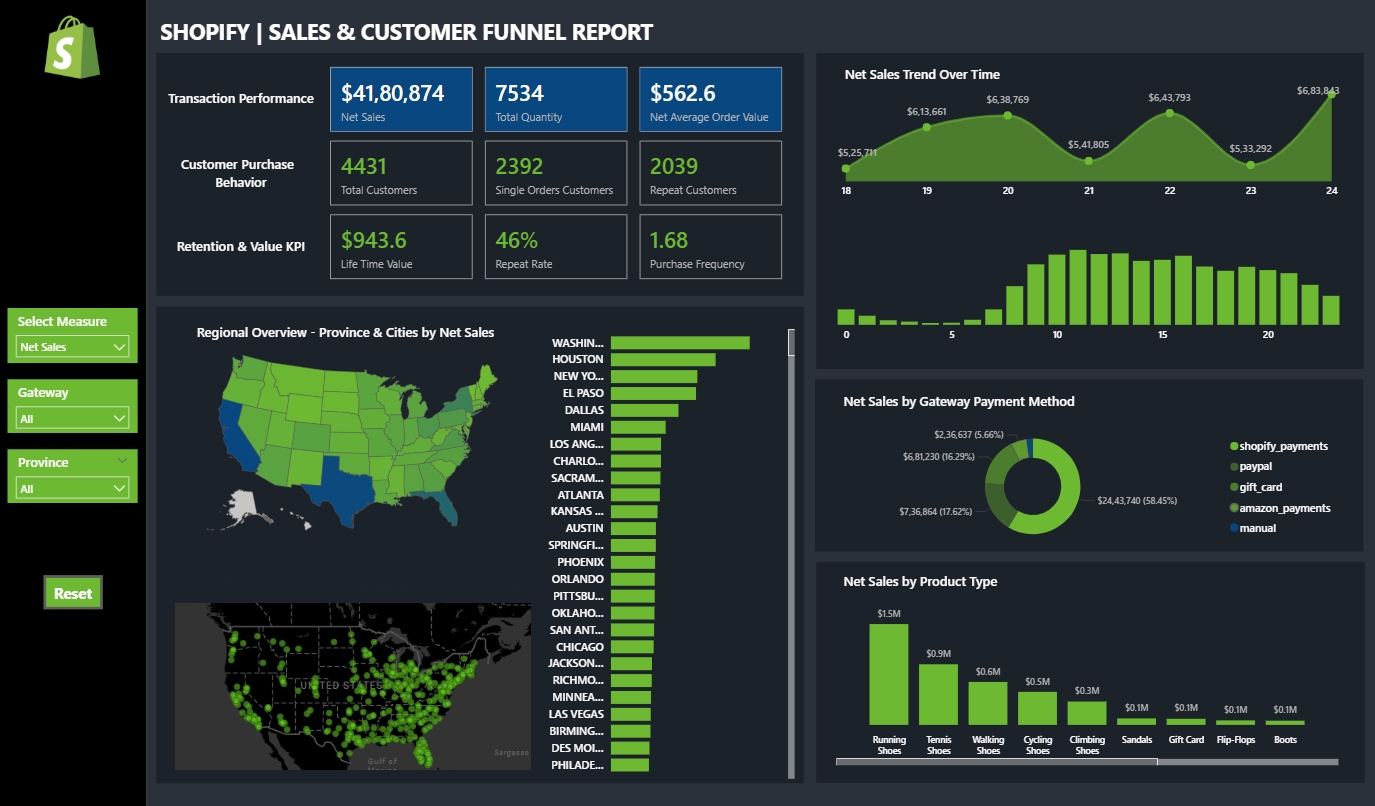

Layout of this report page (visuals, bound fields, positions):
{"tool":"powerbi","page":{"name":"Shopify Analysis Dashboard","canvas":[1700,1000],"ordinal":0},"visuals":[{"type":"shape","box":[0,0,180.7,1000.7],"z":0},{"type":"textbox","box":[193,18.5,620.8,49.4],"z":1000},{"type":"shape","box":[193.2,67.4,800,300],"z":2000},{"type":"cardVisual","fields":{"Data":["shopify_sales.Net Sales","shopify_sales.Total Quantity","shopify_sales.Net Average Order Value"]},"box":[402.8,80.2,570,90],"z":3000},{"type":"card","fields":{"Values":["shopify_sales.Transaction Performance"]},"box":[193.2,82,209.6,89.3],"z":4000},{"type":"cardVisual","fields":{"Data":["shopify_sales.Total Customers","shopify_sales.Single Orders Customers","shopify_sales.Repeat Customers"]},"box":[402.8,170.8,570.4,90],"z":5000},{"type":"card","fields":{"Values":["shopify_sales.Customer Purchase  Behavior"]},"box":[193.2,171.3,209.6,89.3],"z":6000},{"type":"cardVisual","fields":{"Data":["shopify_sales.Life Time Value","shopify_sales.Repeat Rate","shopify_sales.Purchase Frequency"]},"box":[402.8,262.4,570.4,90],"z":7000},{"type":"card","fields":{"Values":["shopify_sales.Retention & Value KPI"]},"box":[193.2,264.3,209.6,89.3],"z":8000},{"type":"shape","box":[193.2,380.9,800.1,588.7],"z":9000},{"type":"shapeMap","fields":{"Value":["shopify_sales.Net Sales"],"Category":["shopify_sales.Billing Address Province"]},"box":[210,424.7,450.9,250.2],"z":10000},{"type":"slicer","fields":{"Values":["Select Measure.Select Measure"]},"box":[9.3,382.4,160.6,68],"z":11000},{"type":"map","fields":{"Category":["shopify_sales.Location"]},"box":[211.6,704.2,449.4,248.6],"z":12000},{"type":"clusteredBarChart","fields":{"Y":["shopify_sales.Net Sales"],"Category":["shopify_sales.CITY"]},"box":[661,396.9,325.9,572.9],"z":13000},{"type":"shape","box":[1008.5,68,676.4,390.7],"z":14000},{"type":"areaChart","fields":{"Y":["shopify_sales.Net Sales"],"Category":["shopify_sales.Invoice Date.Variation.Date Hierarchy.Day"]},"box":[1029.9,95.3,630.3,160],"z":15000},{"type":"columnChart","fields":{"Y":["shopify_sales.Net Sales"],"Category":["shopify_sales.Hour"]},"box":[1030.1,273.3,630.1,160.6],"z":16000},{"type":"card","fields":{"Values":["shopify_sales.Map Title"]},"box":[193,396.9,467.9,37.1],"z":17000},{"type":"card","fields":{"Values":["shopify_sales.Trend Title"]},"box":[1005.4,77.2,268.7,38.6],"z":18000},{"type":"shape","box":[1006.9,471,678,213.1],"z":19000},{"type":"donutChart","fields":{"Y":["shopify_sales.Net Sales"],"Category":["shopify_sales.Gateway"]},"box":[1028.8,523.8,630,160],"z":20000},{"type":"card","fields":{"Values":["shopify_sales.Gateway Title"]},"box":[1006.9,481.8,352.1,37.1],"z":21000},{"type":"shape","box":[1008.5,696.5,678,273.3],"z":22000},{"type":"columnChart","fields":{"Y":["shopify_sales.Net Sales"],"Category":["shopify_sales.Product Type"]},"box":[1028.8,735.1,630.3,218.1],"z":23000},{"type":"card","fields":{"Values":["shopify_sales.Product Title"]},"box":[1008.5,704.2,253.3,37.1],"z":24000},{"type":"image","box":[27.8,0,123.5,122],"z":25000},{"type":"slicer","fields":{"Values":["shopify_sales.Gateway"]},"box":[9.3,471,160.6,66.4],"z":26000},{"type":"slicer","fields":{"Values":["shopify_sales.Billing Address Province"]},"box":[9.3,557.5,160.6,66.4],"z":27000},{"type":"actionButton","box":[54.1,713.5,72.6,41.7],"z":28000}]}

Visuals, with their boxes in screenshot pixels (x1, y1, x2, y2), scaled from the page's 1700x1000 canvas onto the 1375x806 screenshot:
shape: pyautogui.locateOnScreen(0, 0, 146, 805)
textbox: pyautogui.locateOnScreen(156, 15, 658, 55)
shape: pyautogui.locateOnScreen(156, 54, 803, 296)
cardVisual - shopify_sales.Net Sales x shopify_sales.Total Quantity: pyautogui.locateOnScreen(326, 65, 787, 137)
card - shopify_sales.Transaction Performance: pyautogui.locateOnScreen(156, 66, 326, 138)
cardVisual - shopify_sales.Total Customers x shopify_sales.Single Orders Customers: pyautogui.locateOnScreen(326, 138, 787, 210)
card - shopify_sales.Customer Purchase  Behavior: pyautogui.locateOnScreen(156, 138, 326, 210)
cardVisual - shopify_sales.Life Time Value x shopify_sales.Repeat Rate: pyautogui.locateOnScreen(326, 211, 787, 284)
card - shopify_sales.Retention & Value KPI: pyautogui.locateOnScreen(156, 213, 326, 285)
shape: pyautogui.locateOnScreen(156, 307, 803, 781)
shapeMap - shopify_sales.Net Sales x shopify_sales.Billing Address Province: pyautogui.locateOnScreen(170, 342, 535, 544)
slicer - Select Measure.Select Measure: pyautogui.locateOnScreen(8, 308, 137, 363)
map - shopify_sales.Location: pyautogui.locateOnScreen(171, 568, 535, 768)
clusteredBarChart - shopify_sales.Net Sales x shopify_sales.CITY: pyautogui.locateOnScreen(535, 320, 798, 782)
shape: pyautogui.locateOnScreen(816, 55, 1363, 370)
areaChart - shopify_sales.Net Sales x shopify_sales.Invoice Date.Variation.Date Hierarchy.Day: pyautogui.locateOnScreen(833, 77, 1343, 206)
columnChart - shopify_sales.Net Sales x shopify_sales.Hour: pyautogui.locateOnScreen(833, 220, 1343, 350)
card - shopify_sales.Map Title: pyautogui.locateOnScreen(156, 320, 535, 350)
card - shopify_sales.Trend Title: pyautogui.locateOnScreen(813, 62, 1031, 93)
shape: pyautogui.locateOnScreen(814, 380, 1363, 551)
donutChart - shopify_sales.Net Sales x shopify_sales.Gateway: pyautogui.locateOnScreen(832, 422, 1342, 551)
card - shopify_sales.Gateway Title: pyautogui.locateOnScreen(814, 388, 1099, 418)
shape: pyautogui.locateOnScreen(816, 561, 1364, 782)
columnChart - shopify_sales.Net Sales x shopify_sales.Product Type: pyautogui.locateOnScreen(832, 592, 1342, 768)
card - shopify_sales.Product Title: pyautogui.locateOnScreen(816, 568, 1021, 597)
image: pyautogui.locateOnScreen(22, 0, 122, 98)
slicer - shopify_sales.Gateway: pyautogui.locateOnScreen(8, 380, 137, 433)
slicer - shopify_sales.Billing Address Province: pyautogui.locateOnScreen(8, 449, 137, 503)
actionButton: pyautogui.locateOnScreen(44, 575, 102, 609)
